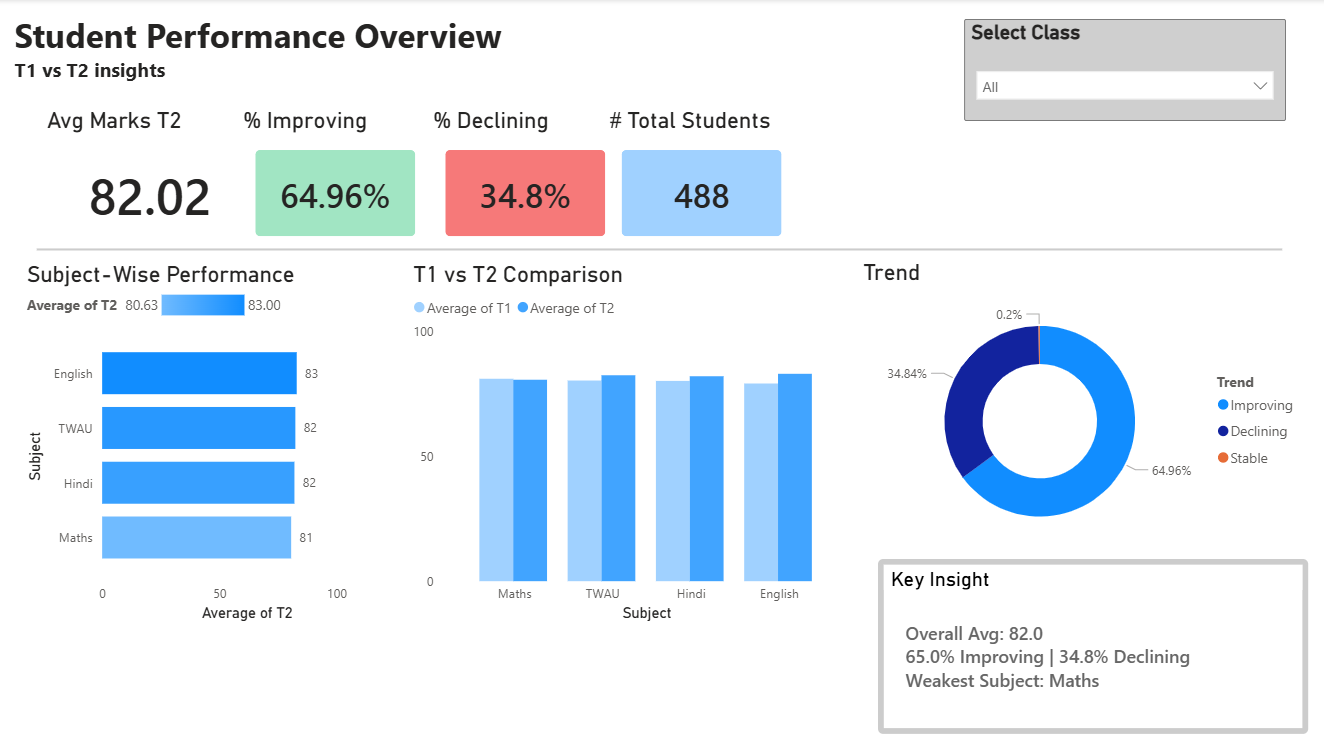

Layout of this report page (visuals, bound fields, positions):
{"tool":"powerbi","page":{"name":"Overview","canvas":[1280,720],"ordinal":0},"visuals":[{"type":"cardVisual","title":"Avg Marks T2","fields":{"Data":["Avg(Students.T2)"]},"box":[42.7,105.6,209,141],"z":0},{"type":"cardVisual","title":"% Improving","fields":{"Data":["Students.% Improving"]},"box":[231.7,105.6,188,141],"z":1000},{"type":"cardVisual","title":"# Total Students","fields":{"Data":["Students.Total Students"]},"box":[585.3,105.6,188,141],"z":2000},{"type":"cardVisual","title":"% Declining","fields":{"Data":["Students.% Declining"]},"box":[415.2,105.6,188,141],"z":3000},{"type":"shape","box":[37,227.8,1202.1,27.4],"z":4000},{"type":"barChart","title":"Subject-Wise Performance","fields":{"Category":["Students.Subject"],"Y":["Avg(Students.T2)"]},"box":[22.9,253.4,372.8,352.3],"z":5000},{"type":"clusteredColumnChart","title":"T1 vs T2 Comparison","fields":{"Category":["Students.Subject"],"Y":["Avg(Students.T1)","Avg(Students.T2)"]},"box":[395.7,253.4,431.9,352.3],"z":6000},{"type":"slicer","title":"Select Class","fields":{"Values":["Students.Class"]},"box":[933.1,19.2,310.1,98.8],"z":7000},{"type":"textbox","box":[10.9,8.4,640.6,79.6],"z":8000},{"type":"cardVisual","title":"Key Insight","fields":{"Data":["Students.Key Insights"]},"box":[849.3,540.5,415,168.9],"z":9000},{"type":"donutChart","title":"Trend","fields":{"Category":["Student_Summary.Trend"],"Y":["CountNonNull(Student_Summary.Roll)"]},"box":[830,250.9,434.3,289.5],"z":10000}]}

Visuals, with their boxes in screenshot pixels (x1, y1, x2, y2), scaled from the page's 1280x720 canvas onto the 1324x745 screenshot:
"Avg Marks T2" cardVisual: x1=44, y1=109, x2=260, y2=255
"% Improving" cardVisual: x1=240, y1=109, x2=434, y2=255
"# Total Students" cardVisual: x1=605, y1=109, x2=800, y2=255
"% Declining" cardVisual: x1=429, y1=109, x2=624, y2=255
shape: x1=38, y1=236, x2=1282, y2=264
"Subject-Wise Performance" barChart: x1=24, y1=262, x2=409, y2=627
"T1 vs T2 Comparison" clusteredColumnChart: x1=409, y1=262, x2=856, y2=627
"Select Class" slicer: x1=965, y1=20, x2=1286, y2=122
textbox: x1=11, y1=9, x2=674, y2=91
"Key Insight" cardVisual: x1=878, y1=559, x2=1308, y2=734
"Trend" donutChart: x1=859, y1=260, x2=1308, y2=559
